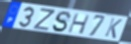3: (18, 7, 36, 29)
7: (89, 14, 106, 38)
H: (67, 13, 91, 36)
K: (103, 17, 124, 40)
S: (51, 10, 72, 33)
Z: (32, 7, 56, 32)
